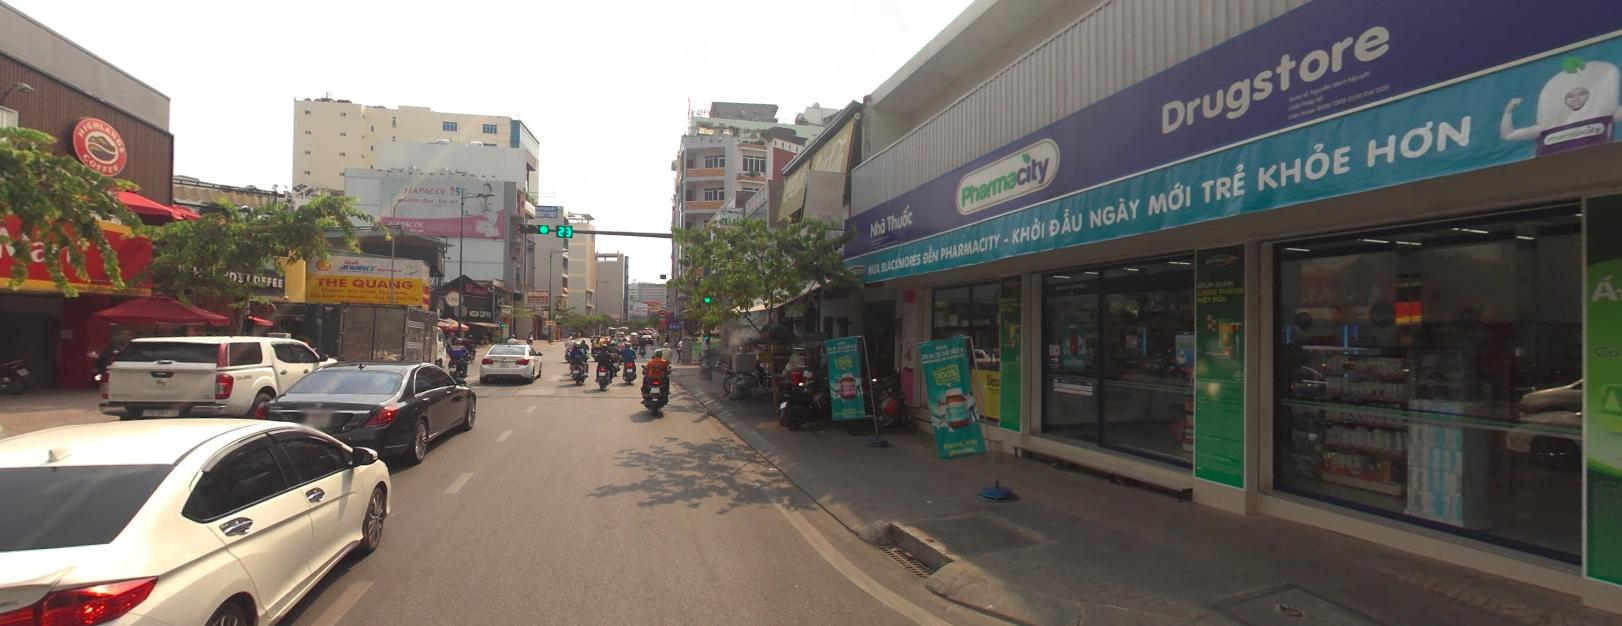Cam con lai: (658, 308, 665, 315)
Cam dung va do: (666, 312, 674, 321)
